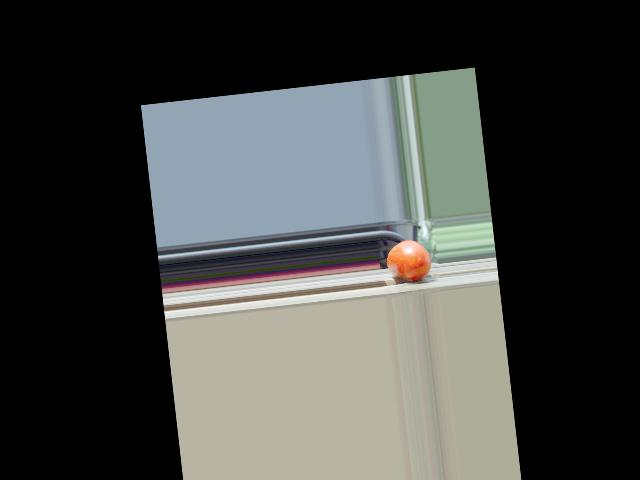tomato: (385, 237, 433, 282)
